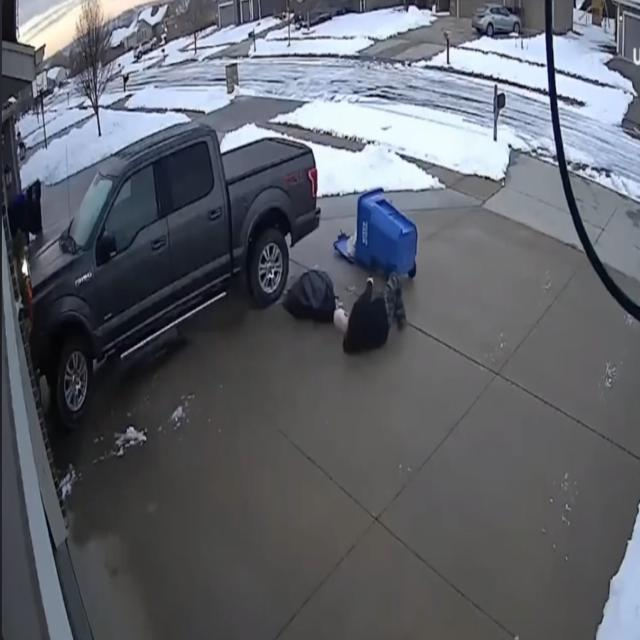fallen: (334, 272, 406, 354)
